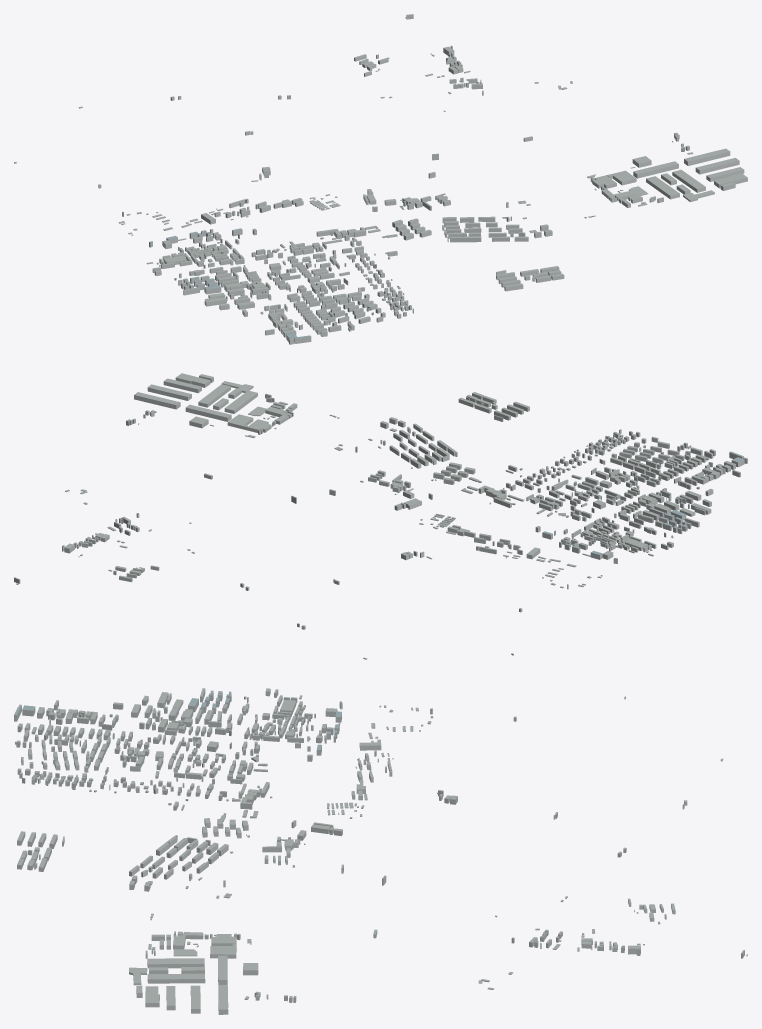
File: far.glb
The picture shows the model from 3 angles, top to bottom: view 1: azimuth 30°, elevation 25°; view 2: azimuth 150°, elevation 25°; view 3: azimuth 270°, elevation 25°; orthographic projection. The views are drawn at different scales.
Size of the model in its own units: 2170 by 21.2 by 2092.
